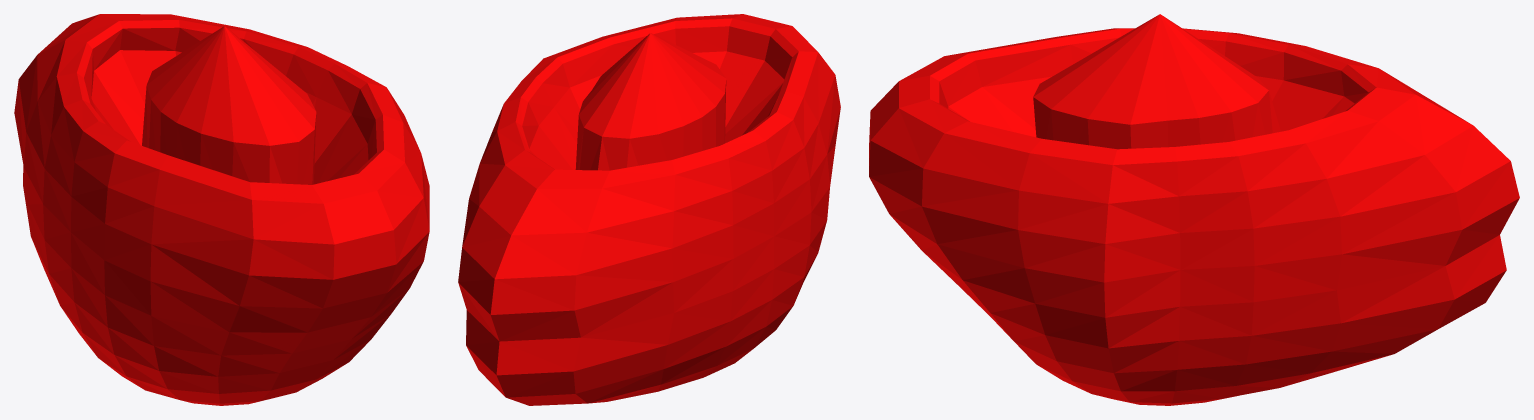
File: statua-4.dae
3 renders of one model, left to right at view 1: azimuth 30°, elevation 25°; view 2: azimuth 150°, elevation 25°; view 3: azimuth 270°, elevation 25°, orthographic. The views are drawn at different scales.
Visible parts, largest first — view 1: Sphere; view 2: Sphere; view 3: Sphere.
Boxes of the visible parts, left/top/right/bottom form: Sphere: left=14, top=14, right=429, bottom=405; Sphere: left=458, top=14, right=840, bottom=405; Sphere: left=869, top=14, right=1519, bottom=405.
Size of the model in its own units: 1.8 by 3.12 by 1.98.
